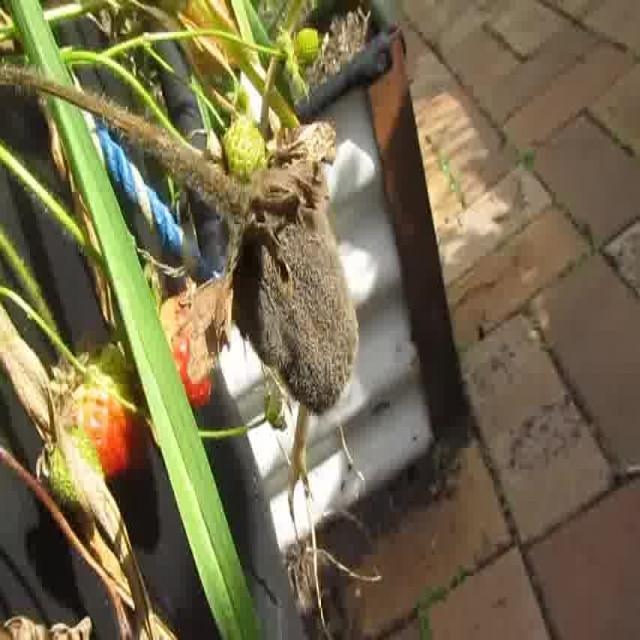Fruta sana: (57, 345, 150, 483), (149, 286, 206, 402)
Moho gris: (211, 150, 358, 410)
